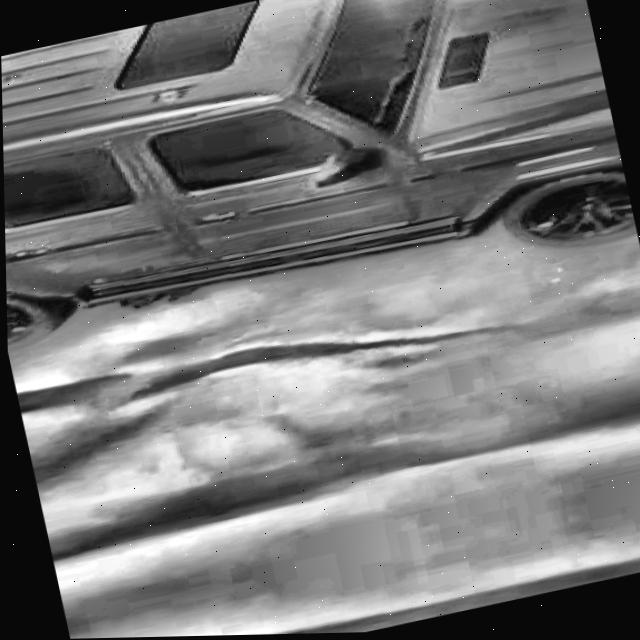light_vehicle: (0, 0, 637, 364)
